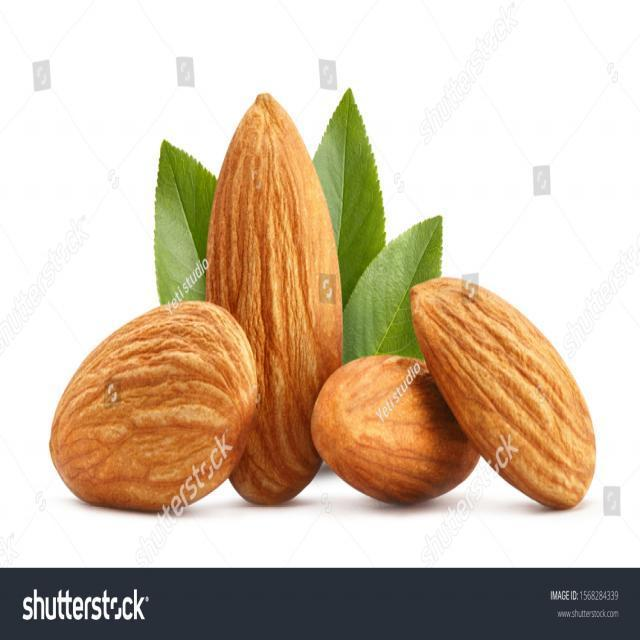almond: (209, 93, 339, 502), (45, 300, 258, 512), (407, 278, 598, 510), (315, 355, 485, 505)
